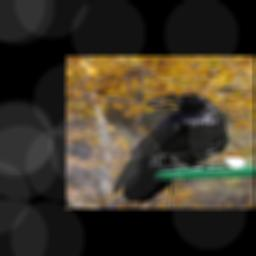Crow: (113, 94, 230, 204)
